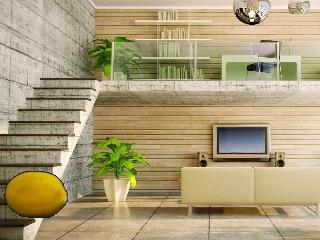lemon: (5, 173, 66, 218)
